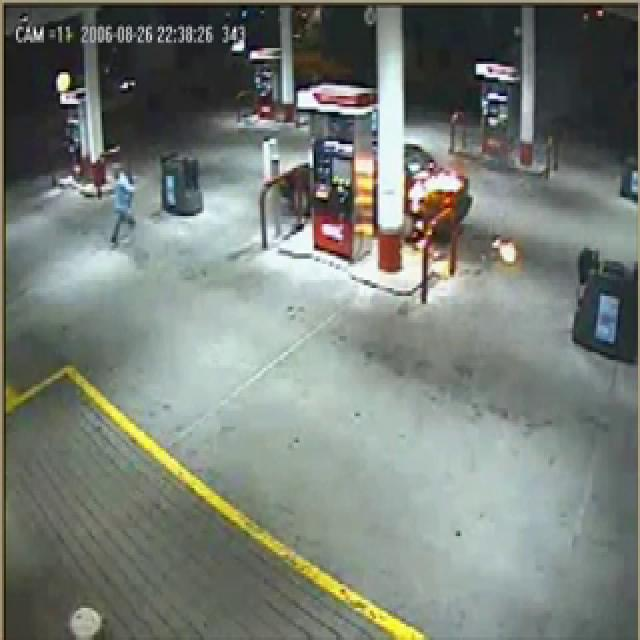explosion: (267, 0, 577, 404)
